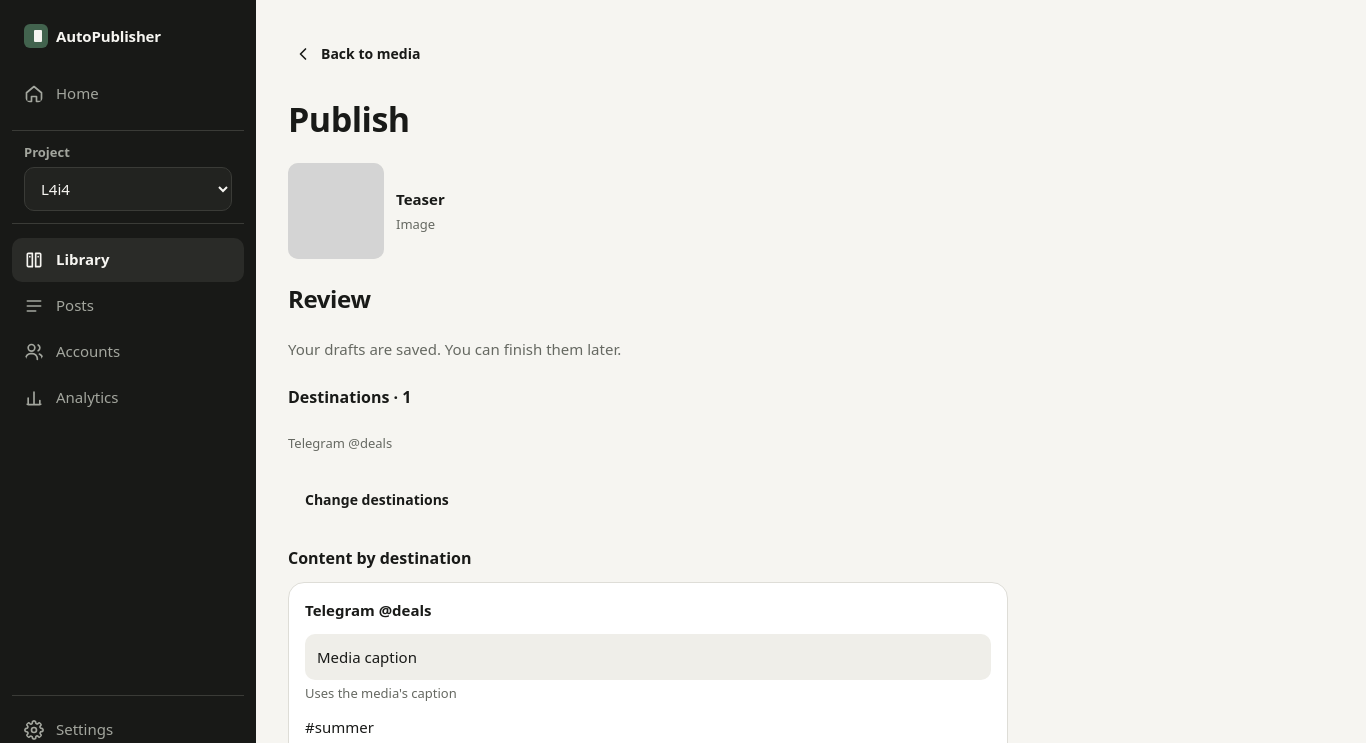
it: after a reload, re-adding creates a new Draft and never reactivates a historical one
The width and height of the screenshot is (1366, 743).
Check: the heading "Publish" is shown, box 288,96 -> 410,142
Check: the heading "Review" is shown, box 288,282 -> 371,315
Click the button "Change destinations" at x=377, y=500, box 288,478 -> 466,522
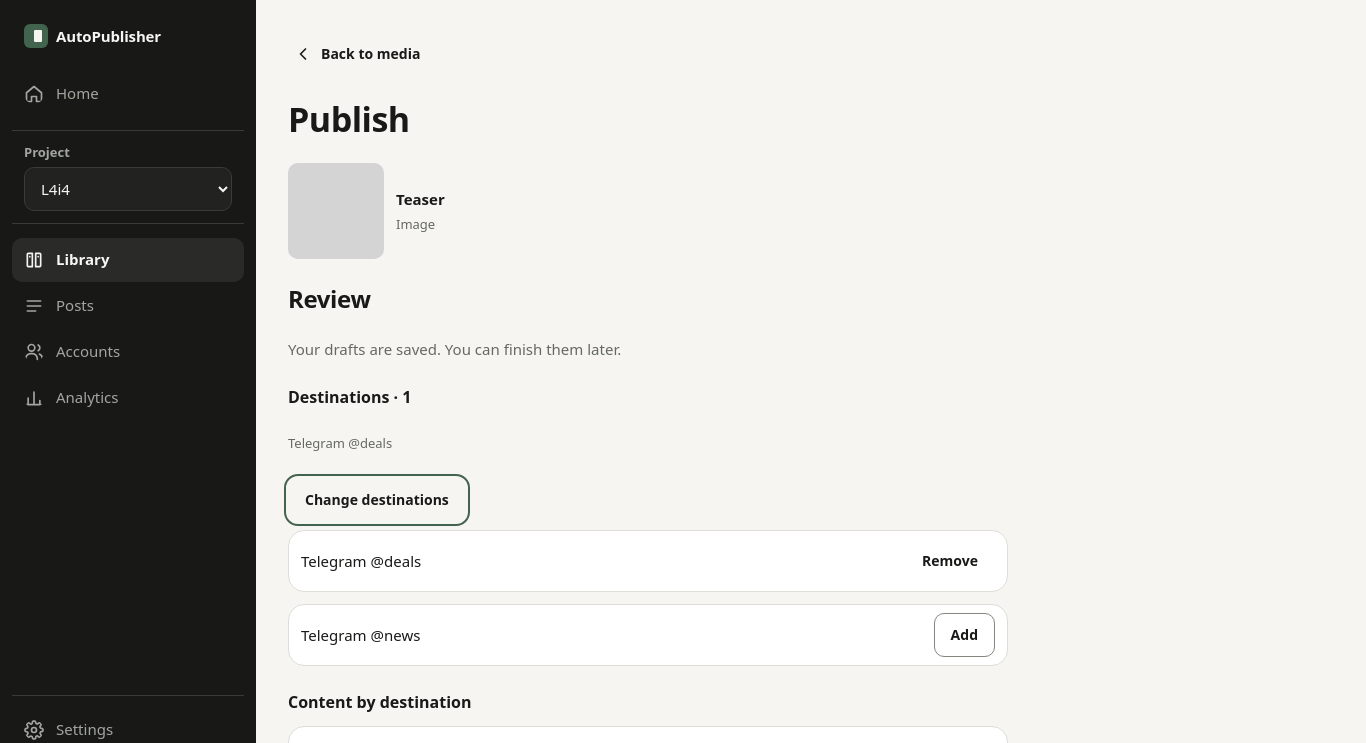
Click the button with aria-label "Add Telegram @news" at x=964, y=635, box 934,613 -> 995,657
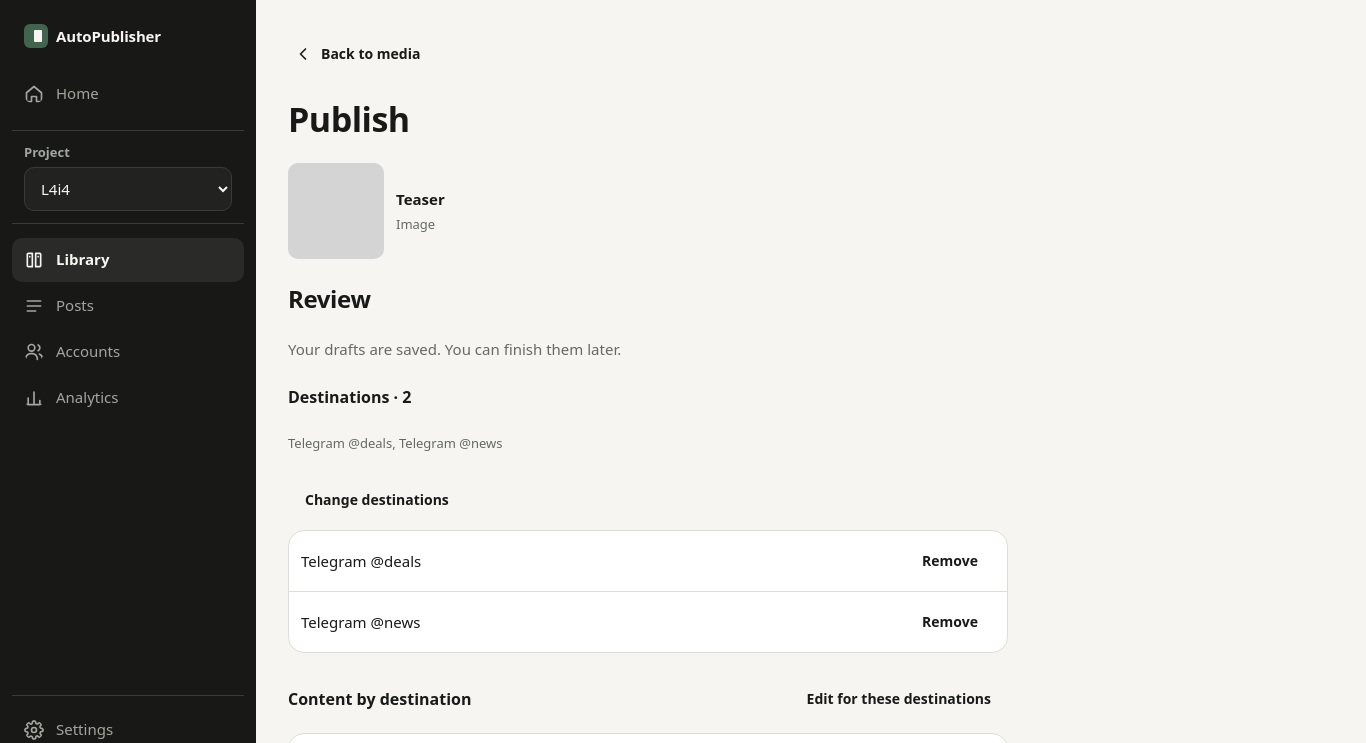
Check: the heading "Destinations · 2" is shown, box 288,386 -> 412,408
